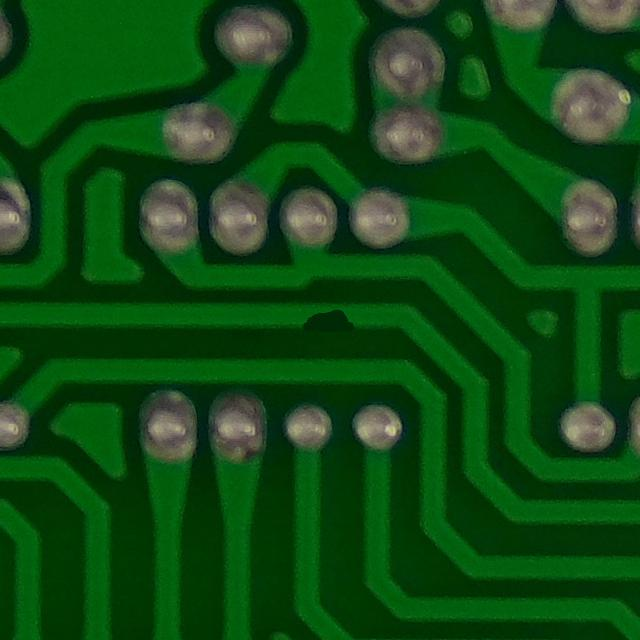mouse_bite: (281, 289, 359, 351)
